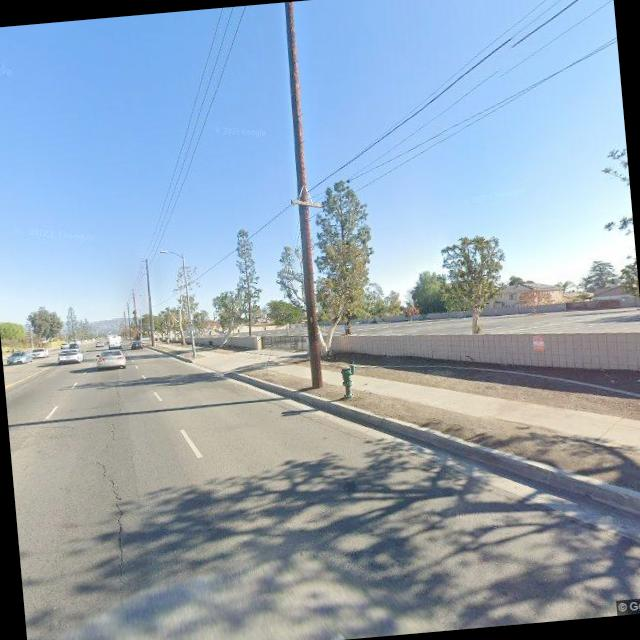crack: (89, 380, 134, 599)
